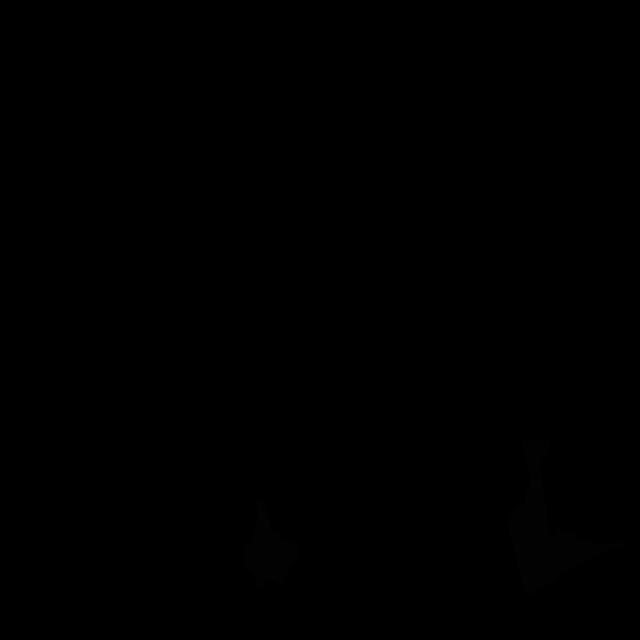cardboard: (507, 438, 626, 595), (244, 497, 299, 589)
